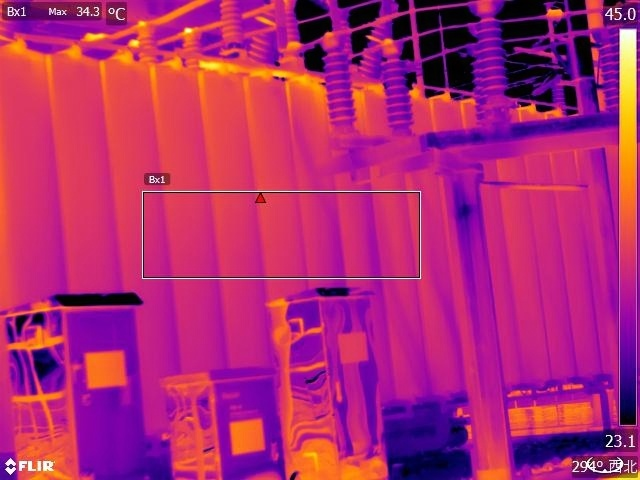post insulator: (373, 41, 421, 137), (318, 35, 362, 132), (470, 1, 510, 98), (599, 28, 619, 114), (469, 44, 489, 125), (218, 1, 252, 47), (135, 21, 162, 62), (180, 31, 204, 74)
transformer: (1, 32, 636, 400)
